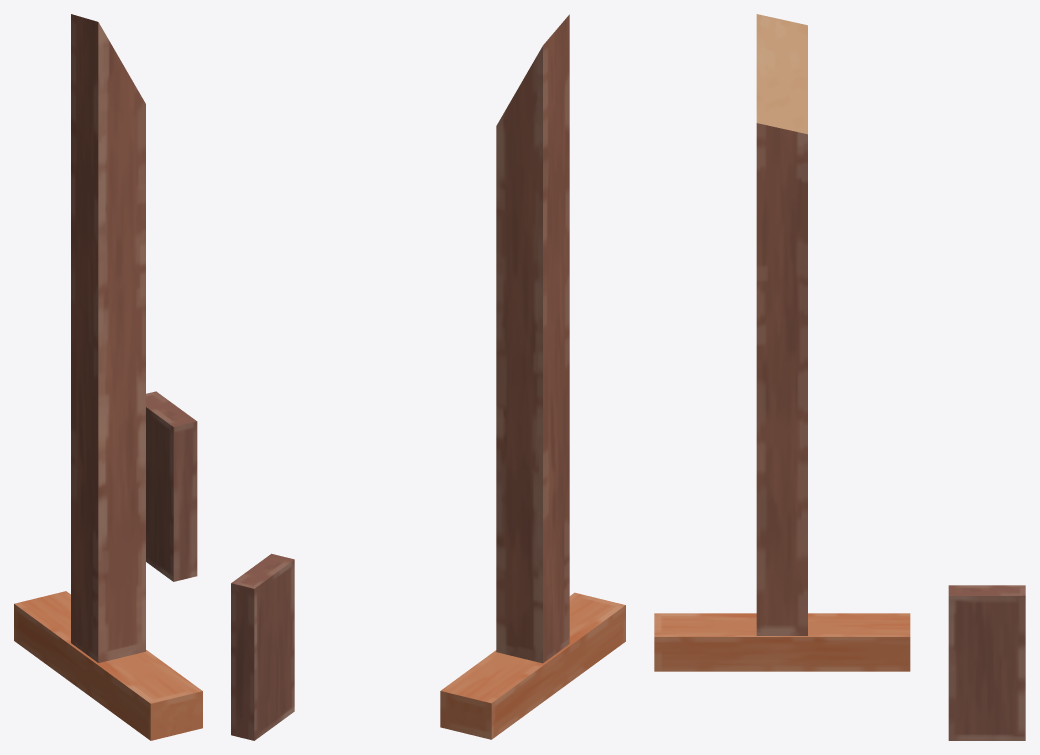
The model's file is loom_s01.fbx.
3 views of the same model, side by side, from view 1: azimuth 30°, elevation 25°; view 2: azimuth 150°, elevation 25°; view 3: azimuth 270°, elevation 25° (orthographic). The views are drawn at different scales.
Visible parts, largest first — view 1: loom_s01; view 2: loom_s01; view 3: loom_s01.
Part boxes in pixels (x1=…): loom_s01: x1=14, y1=14, x2=202, y2=740; loom_s01: x1=231, y1=14, x2=625, y2=740; loom_s01: x1=654, y1=14, x2=1025, y2=740.
Bounding box in the file's own units: 1.72 × 5.48 × 2.9.
